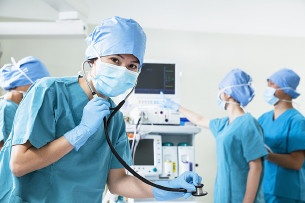Mask: (91, 48, 141, 96)
